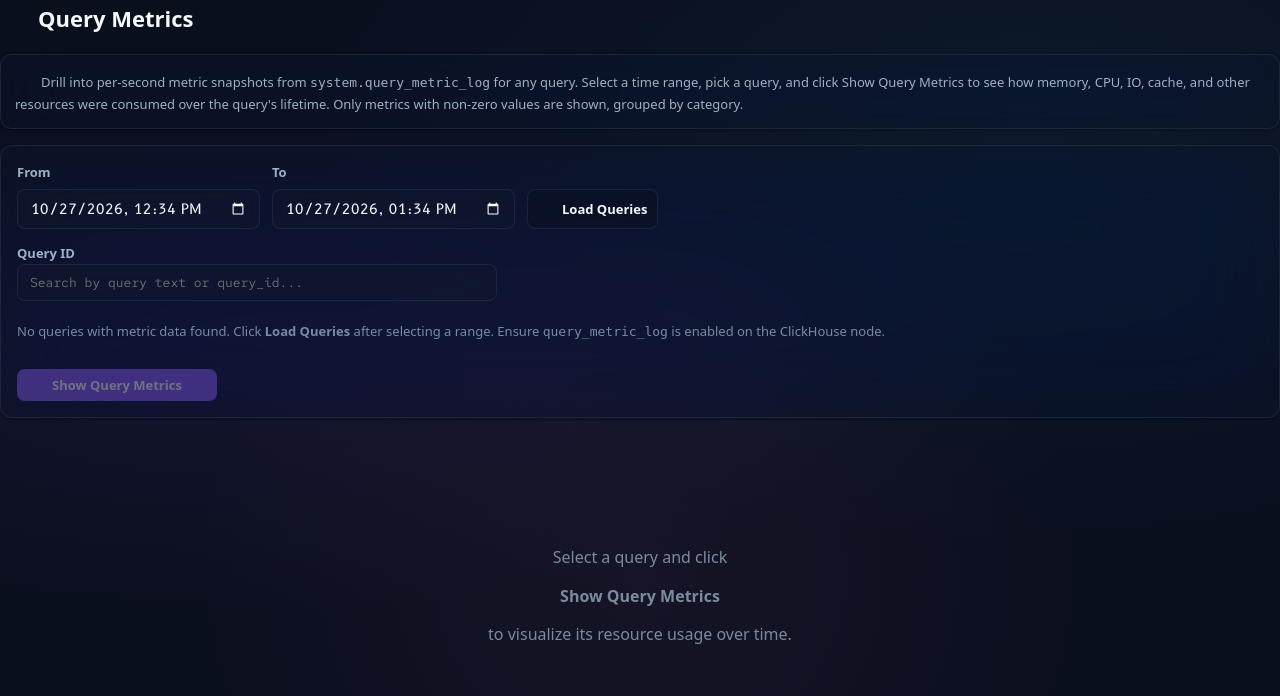
Test: QueryMetrics Component › handles no metric data after discovery
Step 1. Click the button "Load Queries" → (593,209), box [527,189,658,229]
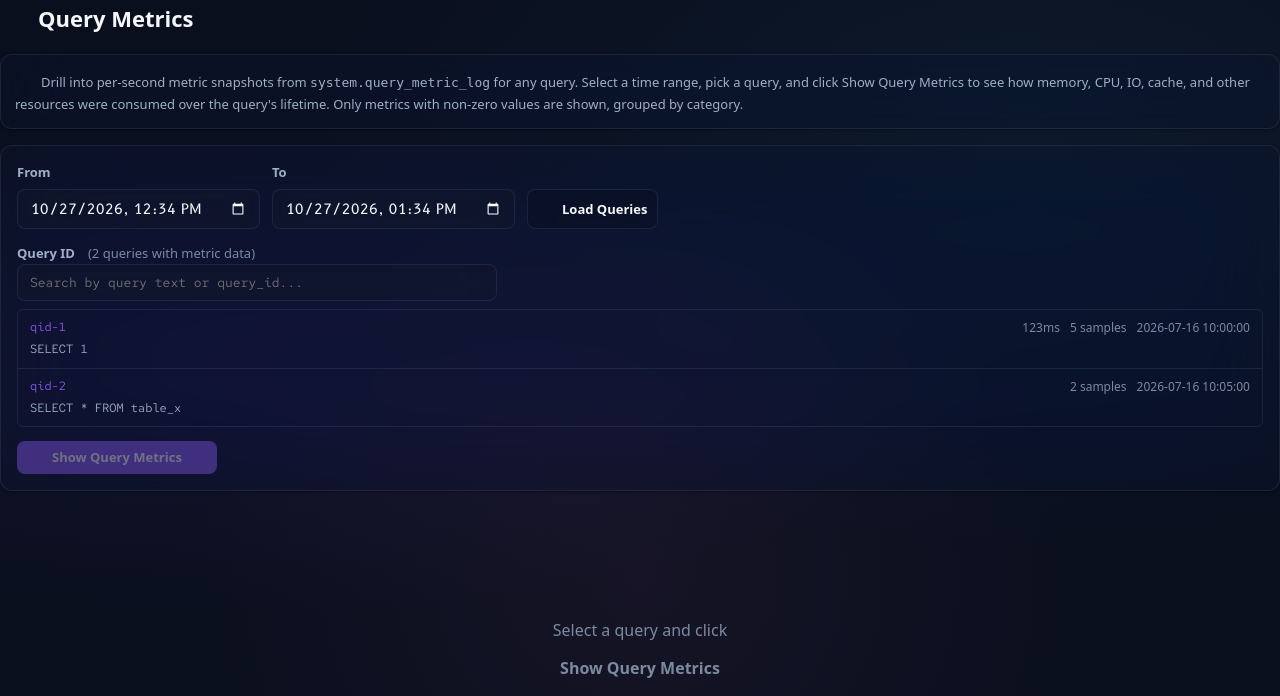
Step 2. Click the text "qid-1" → (48,328), box [30,318,66,338]
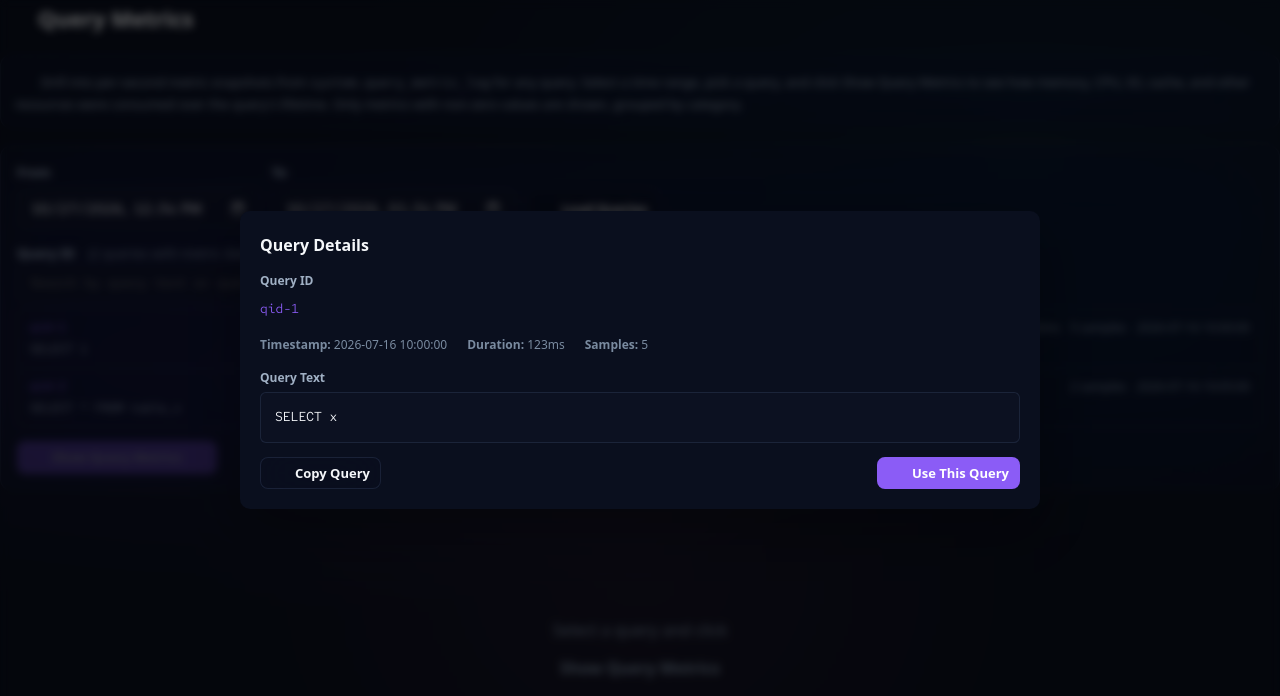
Step 3. Click the button "Use This Query" → (948,473), box [877,457,1020,489]
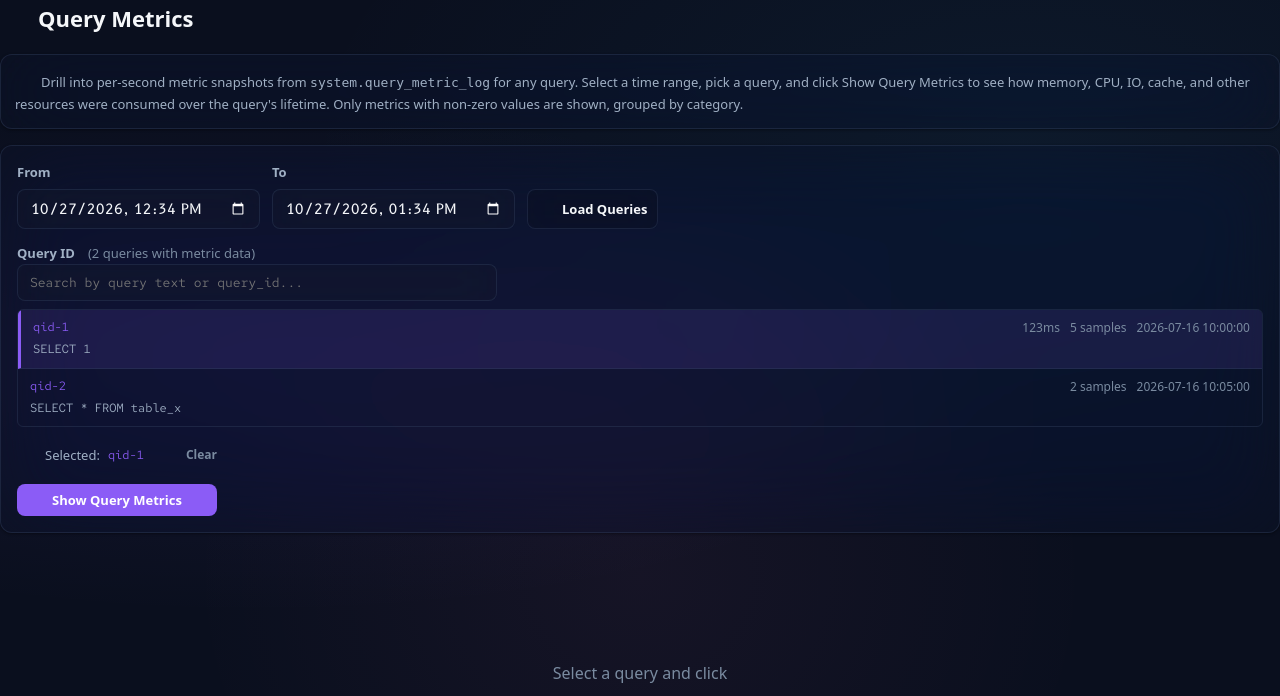
Step 4. Click the button "Show Query Metrics" → (117,500), box [17,484,217,516]
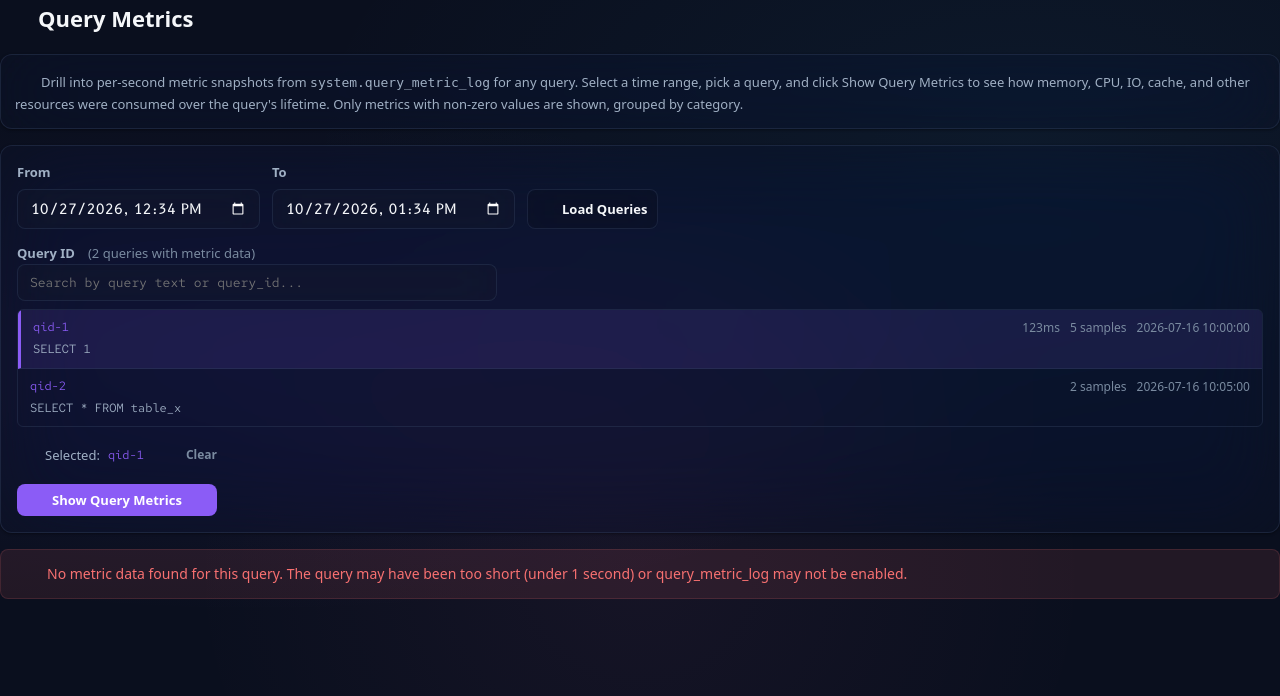
Expected: the text "No metric data found for this query" is shown, [47,564,907,583]
